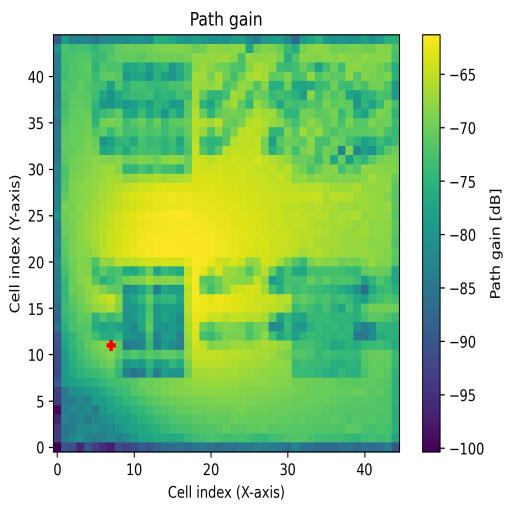Concrete: (292, 63, 360, 174)
Glass: (122, 63, 192, 175)
Metal: (293, 266, 360, 379)
Wood: (122, 267, 185, 378)
